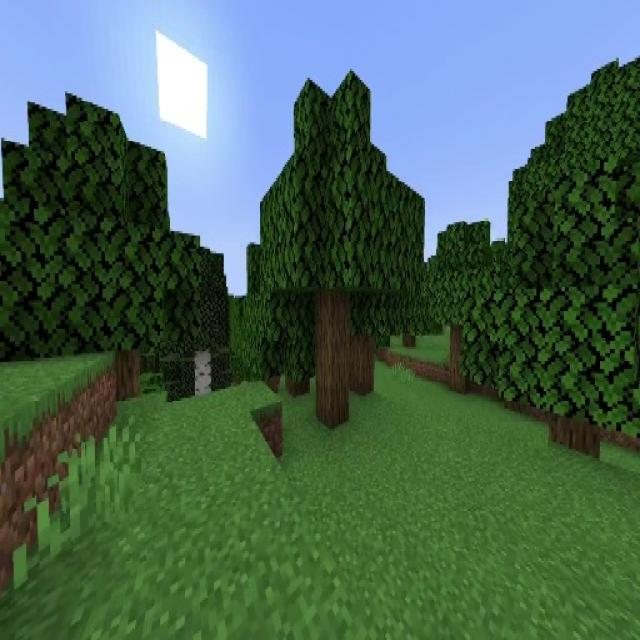birch: (168, 247, 237, 398)
birch_log: (194, 353, 211, 396)
oak: (3, 104, 191, 411), (261, 86, 424, 428), (488, 183, 640, 467), (310, 231, 410, 398), (427, 226, 495, 388)
oak_log: (314, 293, 349, 427), (352, 338, 372, 394), (452, 326, 465, 386)
